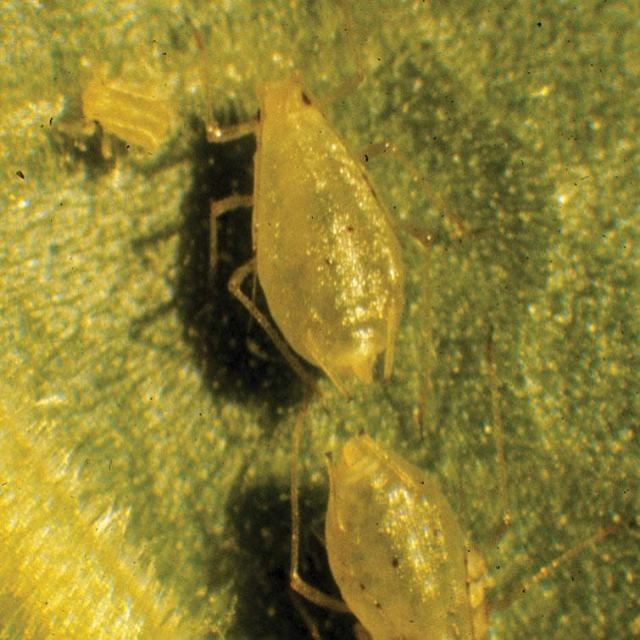aphid: (163, 46, 444, 398), (283, 425, 503, 640)
